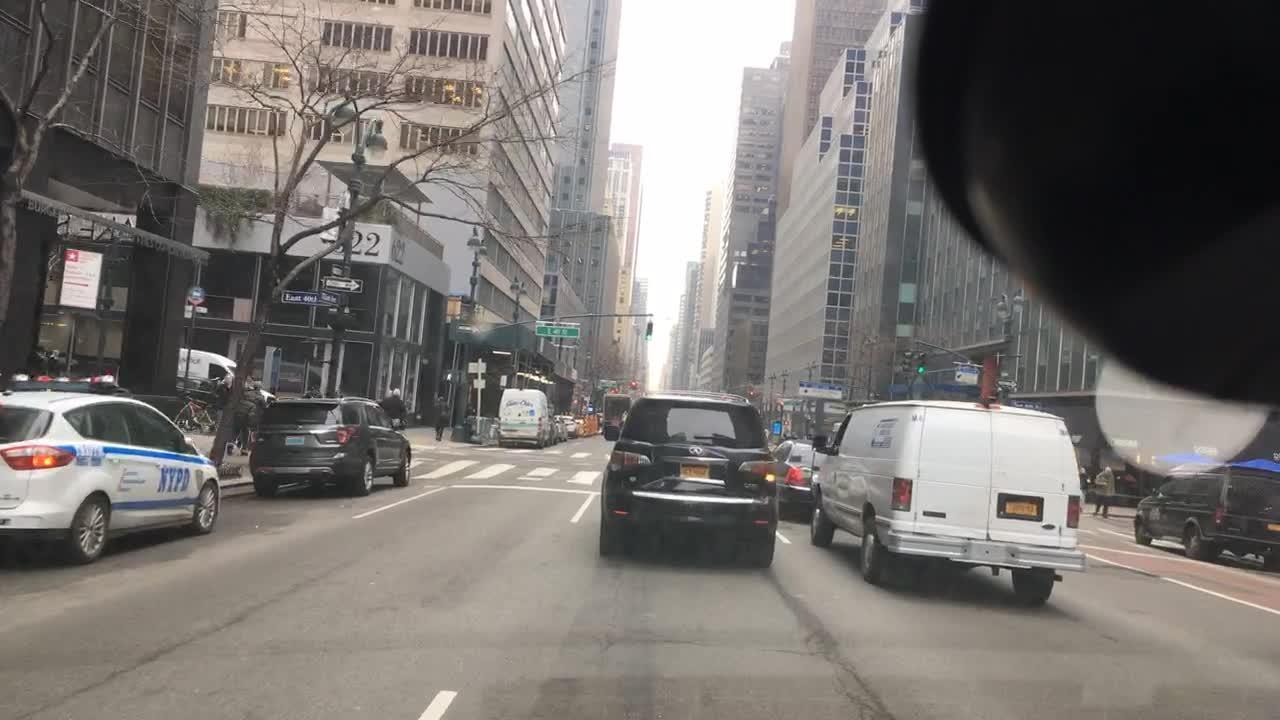Infiniti: (686, 444, 705, 457)
